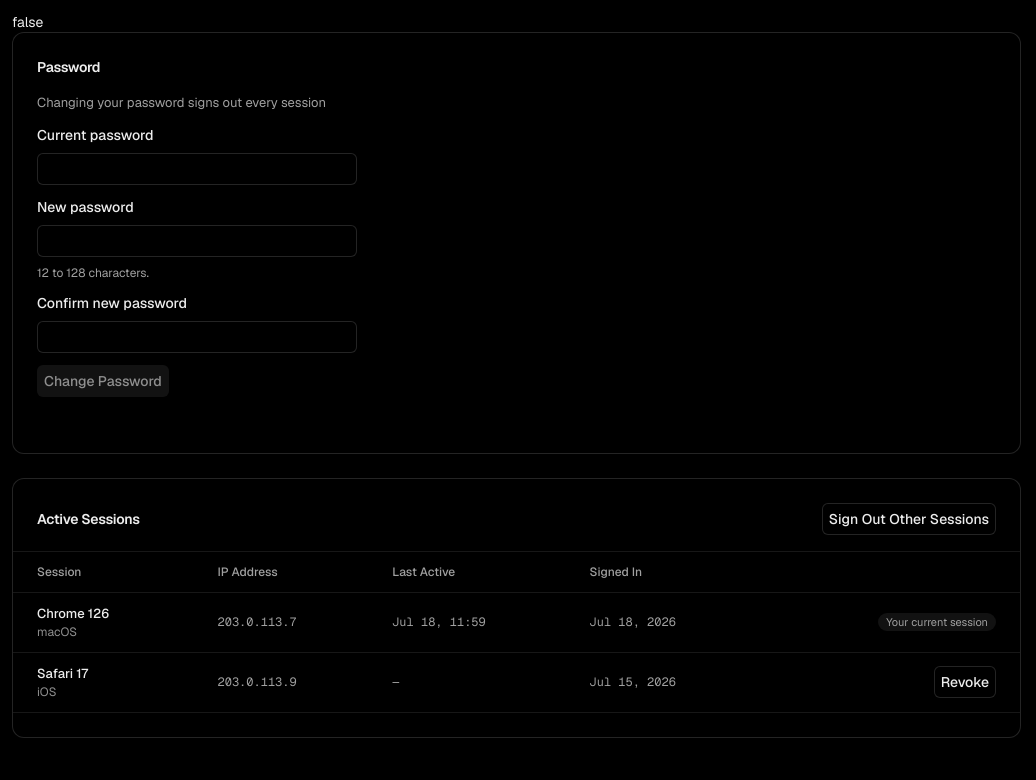
Test: SecuritySettings password form › keeps the form on the page when the change fails
Type "old-password-12" into the password field labelled "Current password".
click(197, 169); type("old-password-12")  # box [37,153,357,185]
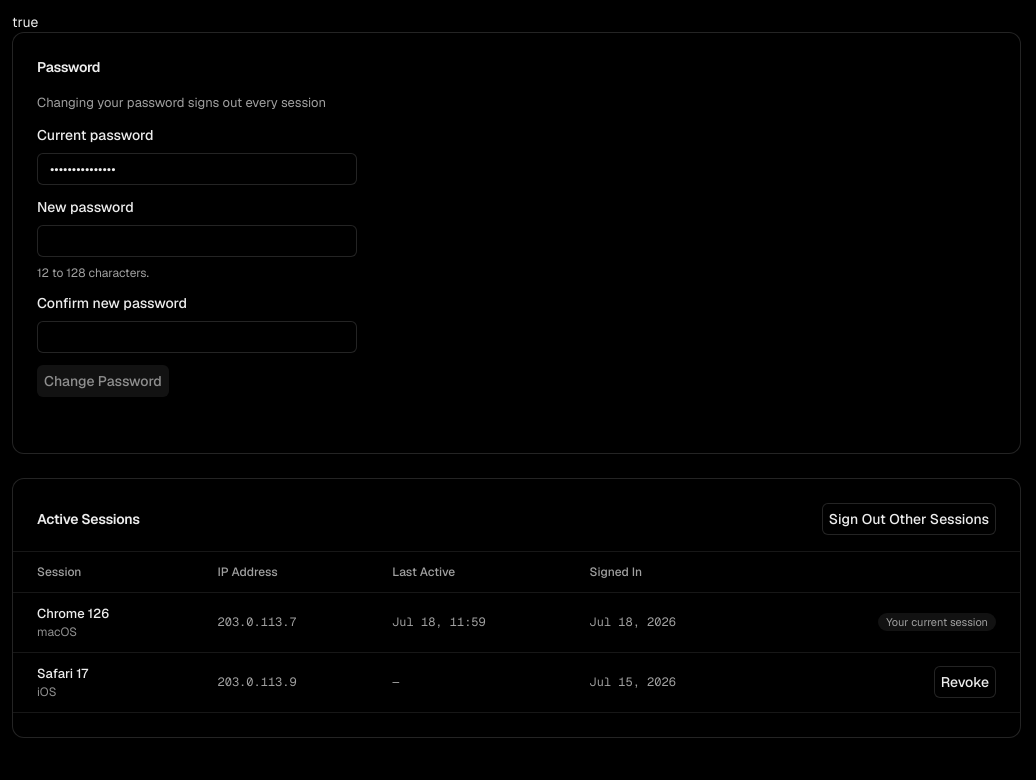
Type "new-password-123" into the password field labelled "New password".
click(197, 241); type("new-password-123")  # box [37,225,357,257]
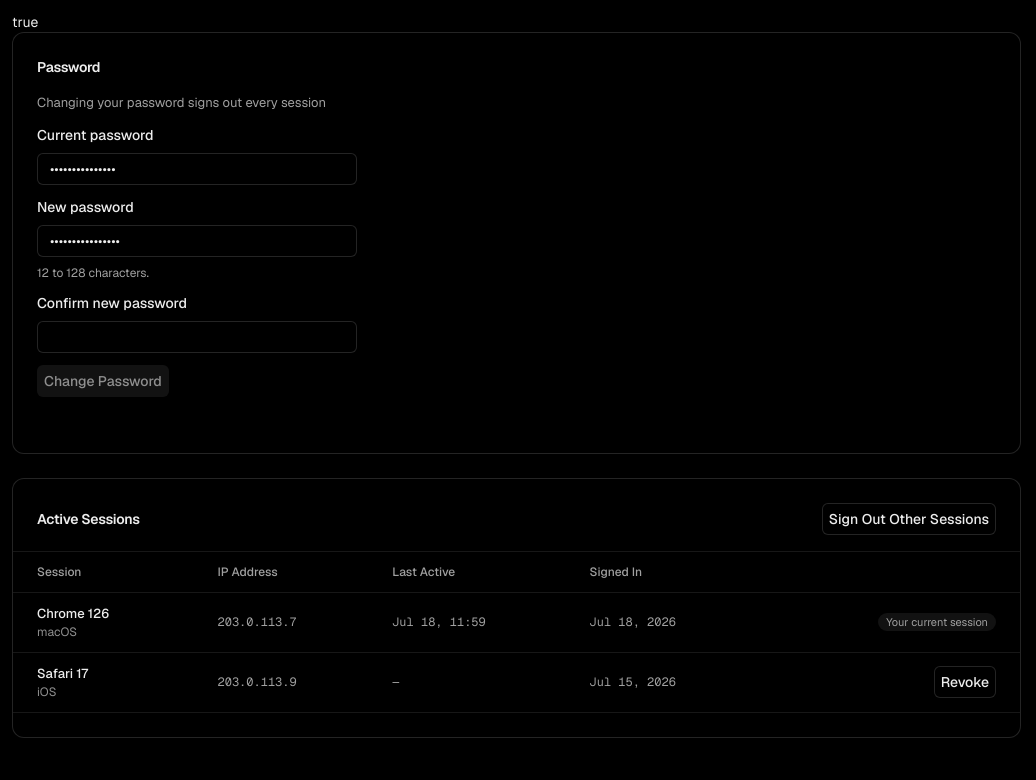
Type "new-password-123" into the password field labelled "Confirm new password".
click(197, 337); type("new-password-123")  # box [37,321,357,353]
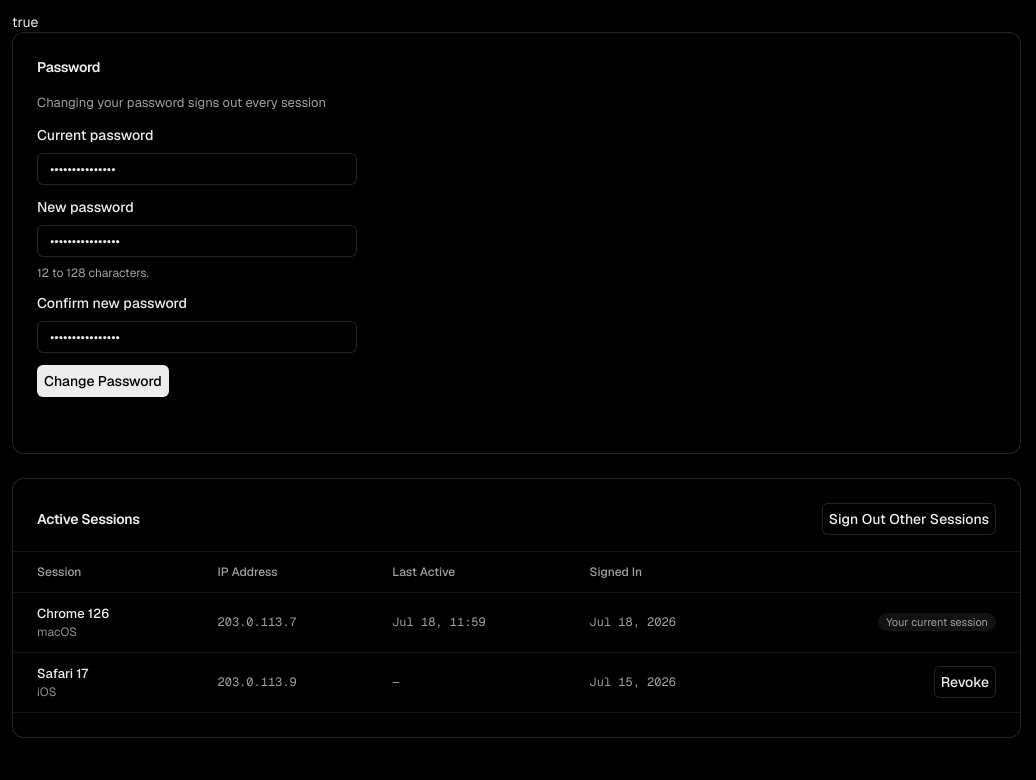
Click the button "Change Password".
click(103, 381)  # box [37,365,169,397]
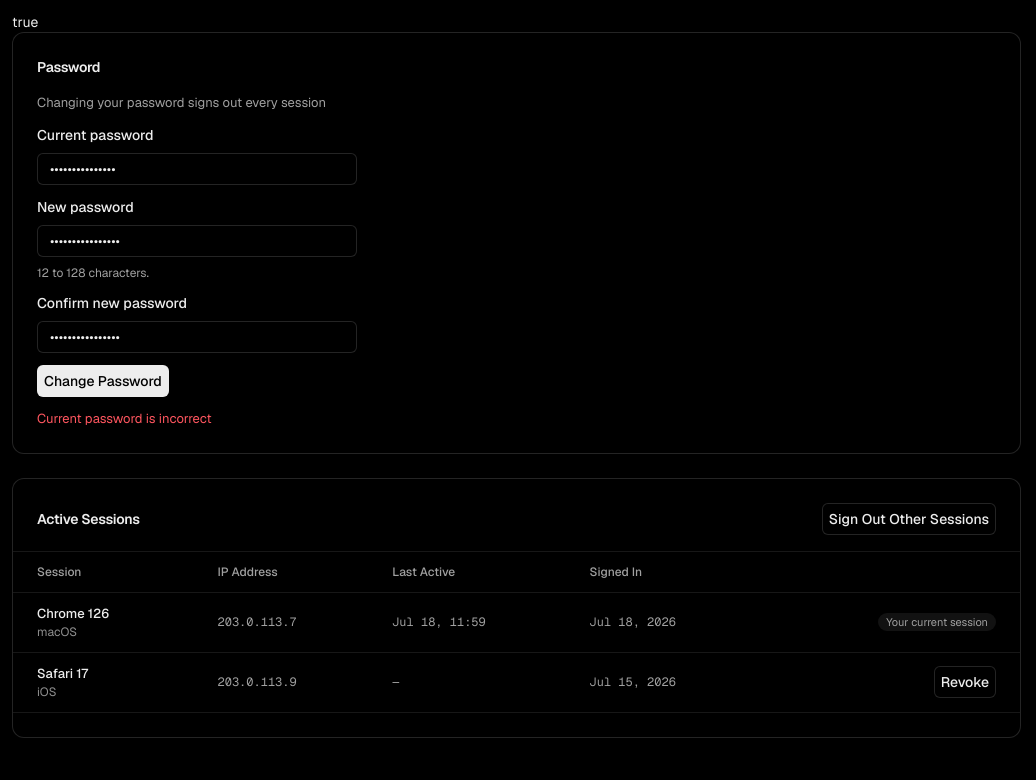
Check: the text "Current password is incorrect" is shown, box [37,410,212,427]
